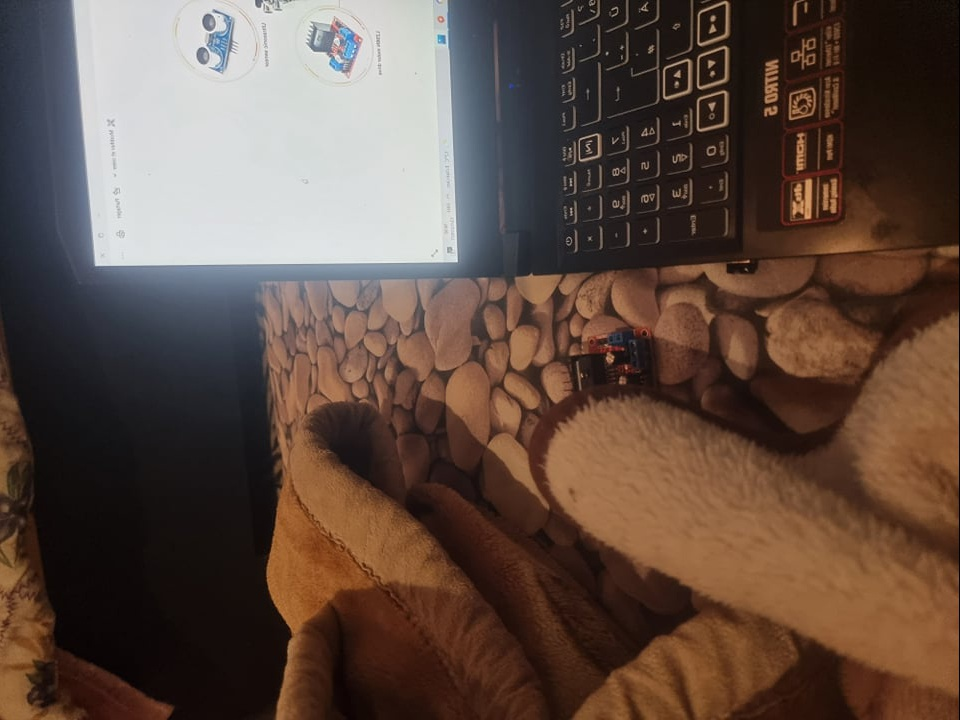MOTOR: (561, 323, 656, 403), (309, 16, 364, 80)
SENSOR: (195, 9, 236, 75)
